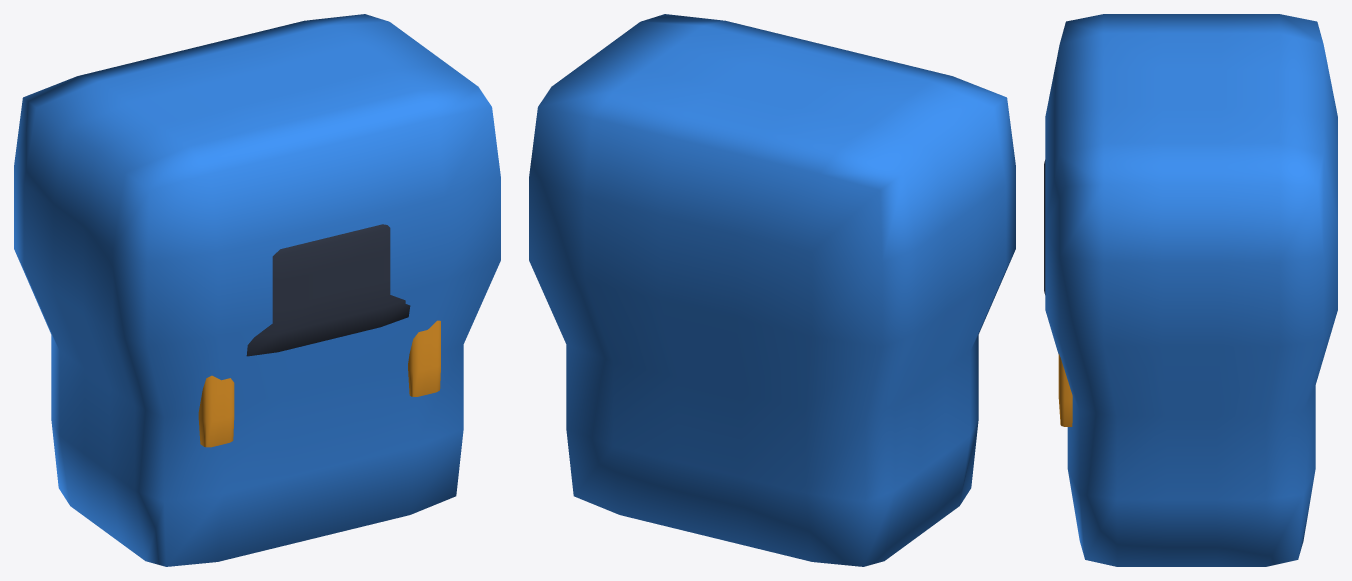
Rendered from torso_mantis.obj.
The picture shows the model from 3 angles, left to right: view 1: azimuth 30°, elevation 25°; view 2: azimuth 150°, elevation 25°; view 3: azimuth 270°, elevation 25°; orthographic projection.
Size of the model in its own units: 0.7316 by 0.78 by 0.4978.
